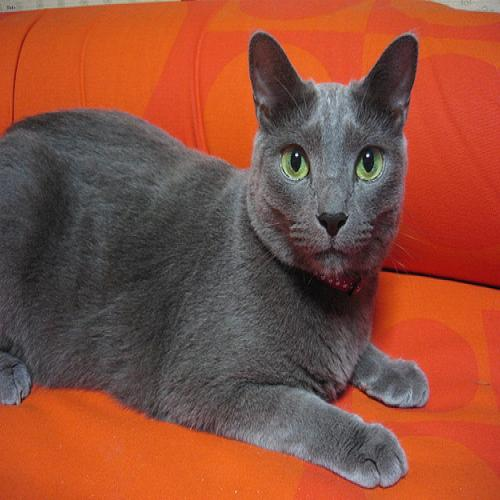rblue: (236, 14, 444, 303)
